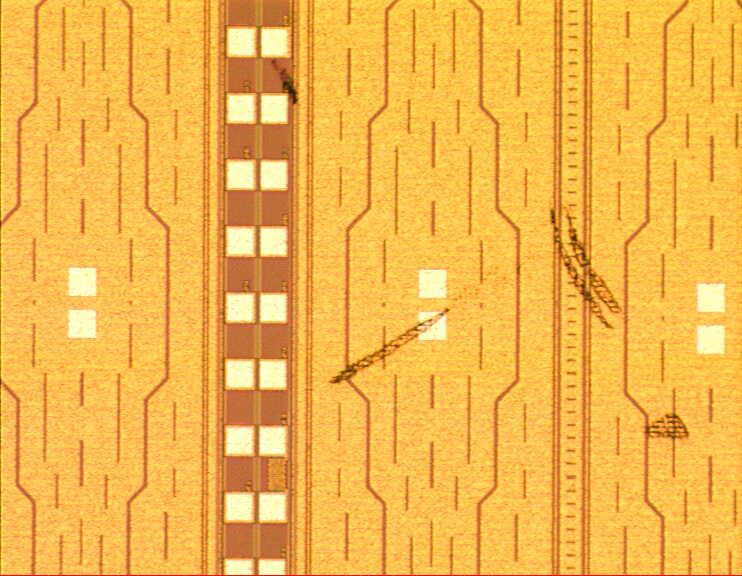SCRATCH: (324, 197, 691, 457)
